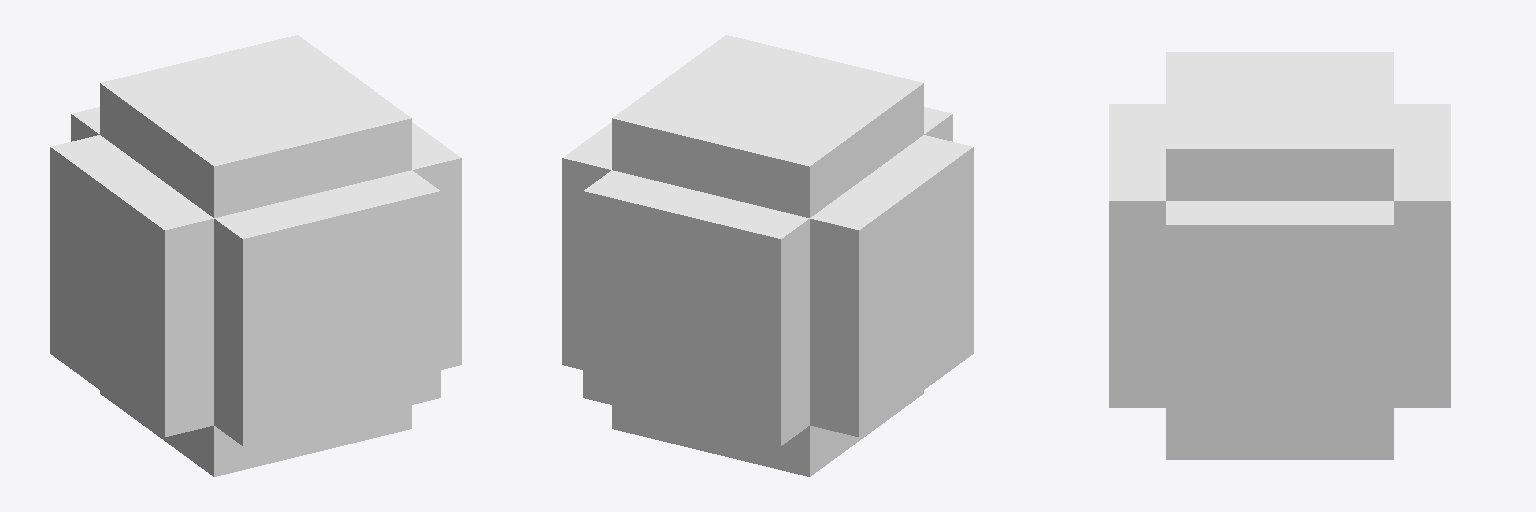
The model's file is Dragon_small-6.obj.
3 views of the same model, side by side, from view 1: azimuth 30°, elevation 25°; view 2: azimuth 150°, elevation 25°; view 3: azimuth 270°, elevation 25° (orthographic).
Visible parts, largest first — view 1: object 1; view 2: object 1; view 3: object 1.
Part boxes in pixels (x1,y1,x2,y2): object 1: (50, 35, 461, 476); object 1: (562, 35, 973, 476); object 1: (1109, 52, 1450, 459).
Size of the model in its own units: 0.6 by 0.6 by 0.6.